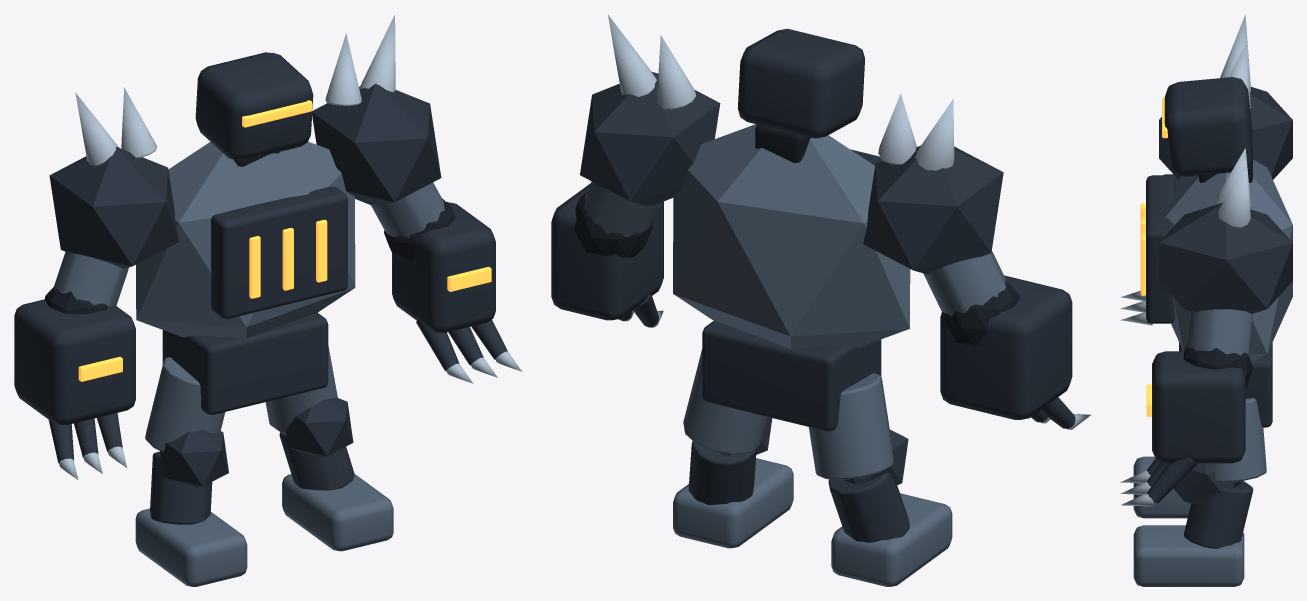
Rendered from Malware_Brawler.fbx.
The picture shows the model from 3 angles, left to right: view 1: azimuth 30°, elevation 25°; view 2: azimuth 150°, elevation 25°; view 3: azimuth 270°, elevation 25°; orthographic projection. The views are drawn at different scales.
Visible parts, largest first — view 1: Torso, Chest black plate, Forearm gauntlet -1, Shoulder -1, Shoulder 1, Pelvis, Wedge head, Forearm gauntlet 1, Foot -1, Foot 1, Thigh -1, Knee -1 (+24 smaller); view 2: Torso, Forearm gauntlet -1, Shoulder -1, Pelvis, Shoulder 1, Wedge head, Forearm gauntlet 1, Foot -1, Thigh -1, Foot 1, Shin -1, Thigh 1 (+11 smaller); view 3: Shoulder 1, Forearm gauntlet 1, Wedge head, Foot 1, Torso, Chest black plate, Shoulder -1, Shin 1, Upper arm 1, Thigh 1, Pelvis, Knee 1 (+9 smaller).
Part boxes in pixels (x1,y1,x2,y2): Torso: (136,141,355,338); Chest black plate: (211,186,347,318); Forearm gauntlet -1: (14,299,135,424); Shoulder -1: (49,147,179,268); Shoulder 1: (312,83,441,205); Pelvis: (162,312,328,414); Wedge head: (195,52,313,160); Forearm gauntlet 1: (392,202,495,332); Foot -1: (135,508,247,586); Foot 1: (282,474,393,551); Thigh -1: (145,357,225,451); Knee -1: (160,429,228,488); Torso: (673,124,910,348); Forearm gauntlet -1: (940,275,1072,419); Shoulder -1: (863,145,1003,274); Pelvis: (702,321,881,431); Shoulder 1: (580,72,720,206); Wedge head: (737,28,864,138); Forearm gauntlet 1: (551,183,663,320); Foot -1: (831,493,952,586); Thigh -1: (809,373,893,479); Foot 1: (673,458,793,548); Shin -1: (828,473,909,542); Thigh 1: (683,349,767,454); Shoulder 1: (1159,202,1292,313); Forearm gauntlet 1: (1152,351,1245,463); Wedge head: (1164,77,1252,176); Foot 1: (1133,525,1244,586); Torso: (1165,160,1292,361); Chest black plate: (1146,175,1175,323); Shoulder -1: (1159,87,1292,179); Shin 1: (1183,481,1253,548); Upper arm 1: (1187,309,1252,355); Thigh 1: (1207,398,1266,482); Pelvis: (1179,342,1272,427); Knee 1: (1173,463,1241,504).
Size of the model in its own units: 203 by 203 by 70.22.
